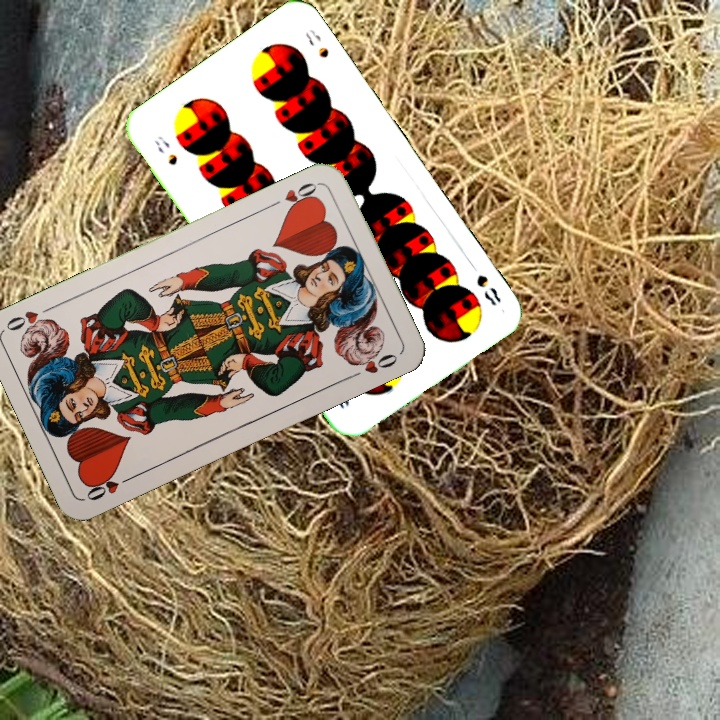HO: (266, 178, 322, 214), (82, 470, 138, 504)
S8: (472, 271, 504, 309), (151, 131, 181, 168)
